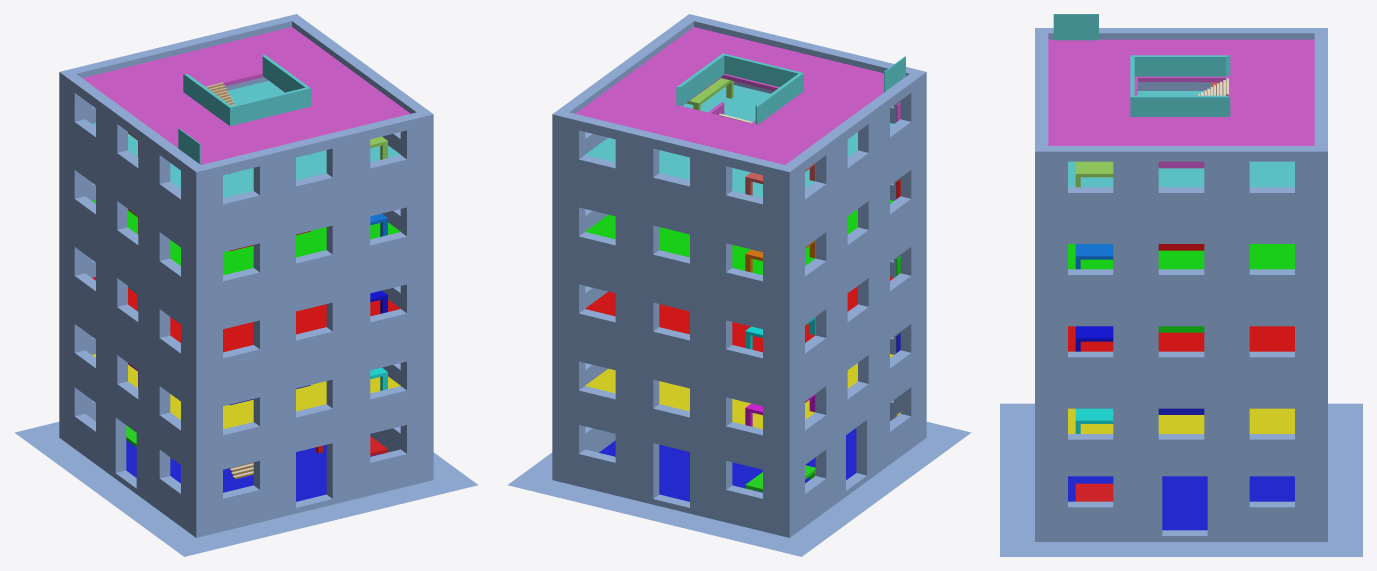
File: building3.glb
3 renders of one model, left to right at view 1: azimuth 30°, elevation 25°; view 2: azimuth 150°, elevation 25°; view 3: azimuth 270°, elevation 25°, orthographic. The views are drawn at different scales.
Visible parts, largest first — view 1: Walls, Floor6, guardrail6, Floor5, Floor1, Floor3, Floor2, Floor4; view 2: Walls, Floor6, guardrail6, Floor5, Floor1, Floor2, Floor4, Floor3, table5-2; view 3: Walls, Floor6, guardrail6, Floor1, Floor5, Floor3, Floor4, Floor2, ElevPanel6, table1-2, table5-2, table3-2 (+2 smaller).
Boxes of the visible parts, x1,y1,x2,y2 form: Walls: [14, 14, 478, 556]; Floor6: [82, 27, 410, 164]; guardrail6: [183, 54, 310, 125]; Floor5: [92, 80, 400, 198]; Floor1: [126, 440, 379, 501]; Floor3: [92, 277, 400, 352]; Floor2: [92, 354, 400, 429]; Floor4: [92, 200, 400, 275]; Walls: [507, 14, 971, 556]; Floor6: [575, 27, 883, 164]; guardrail6: [676, 53, 803, 125]; Floor5: [585, 85, 893, 198]; Floor1: [599, 428, 856, 501]; Floor2: [585, 354, 893, 429]; Floor4: [585, 200, 893, 275]; Floor3: [585, 277, 893, 352]; table5-2: [686, 78, 733, 110]; Walls: [1000, 28, 1362, 556]; Floor6: [1048, 39, 1314, 145]; guardrail6: [1130, 55, 1230, 116]; Floor1: [1068, 476, 1294, 530]; Floor5: [1068, 91, 1294, 187]; Floor3: [1068, 326, 1294, 351]; Floor4: [1068, 244, 1294, 269]; Floor2: [1068, 408, 1294, 433]; ElevPanel6: [1053, 14, 1098, 40]; table1-2: [1075, 483, 1113, 501]; table5-2: [1075, 161, 1113, 187]; table3-2: [1075, 326, 1113, 351].
Size of what is drawn, in the model's own units: 16 by 19.98 by 16.
